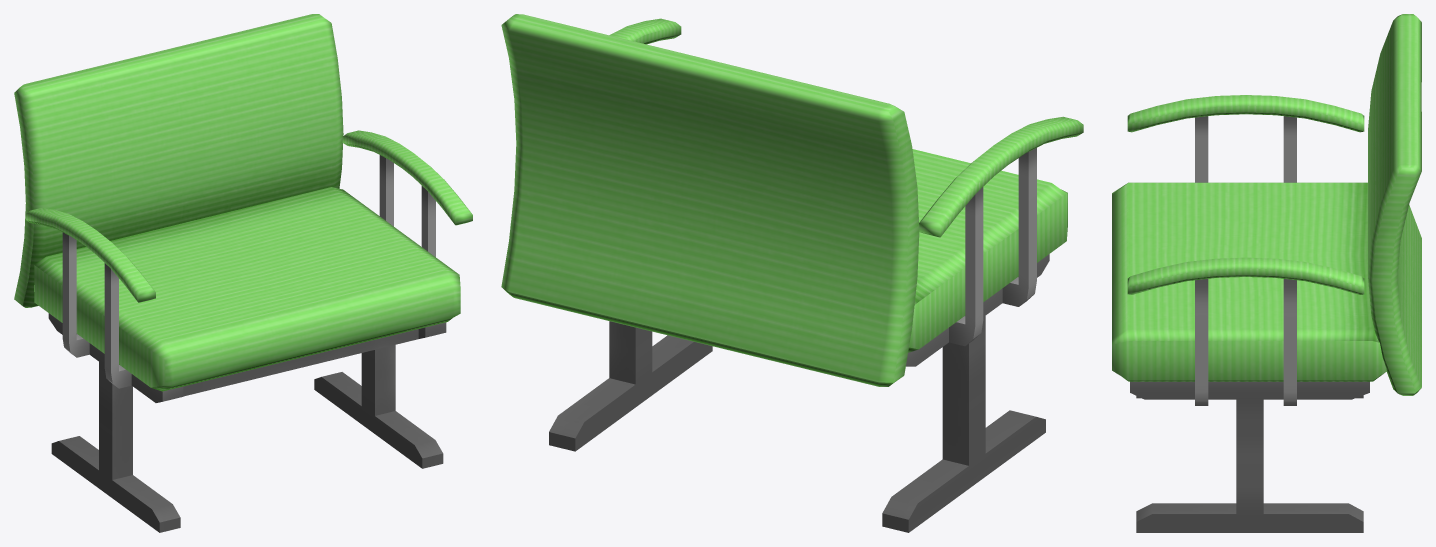
The model's file is Chair_Model.fbx.
3 views of the same model, side by side, from view 1: azimuth 30°, elevation 25°; view 2: azimuth 150°, elevation 25°; view 3: azimuth 270°, elevation 25° (orthographic). The views are drawn at different scales.
Parts seen in each view (by area): view 1: Chair; view 2: Chair; view 3: Chair.
Part boxes in pixels (x1,y1,x2,y2): Chair: (14,14,472,532); Chair: (501,14,1083,532); Chair: (1112,14,1421,532).
Bounding box in the file's own units: 75.83 × 76.11 × 57.84.
Materials: 1 (1 with a texture image).
